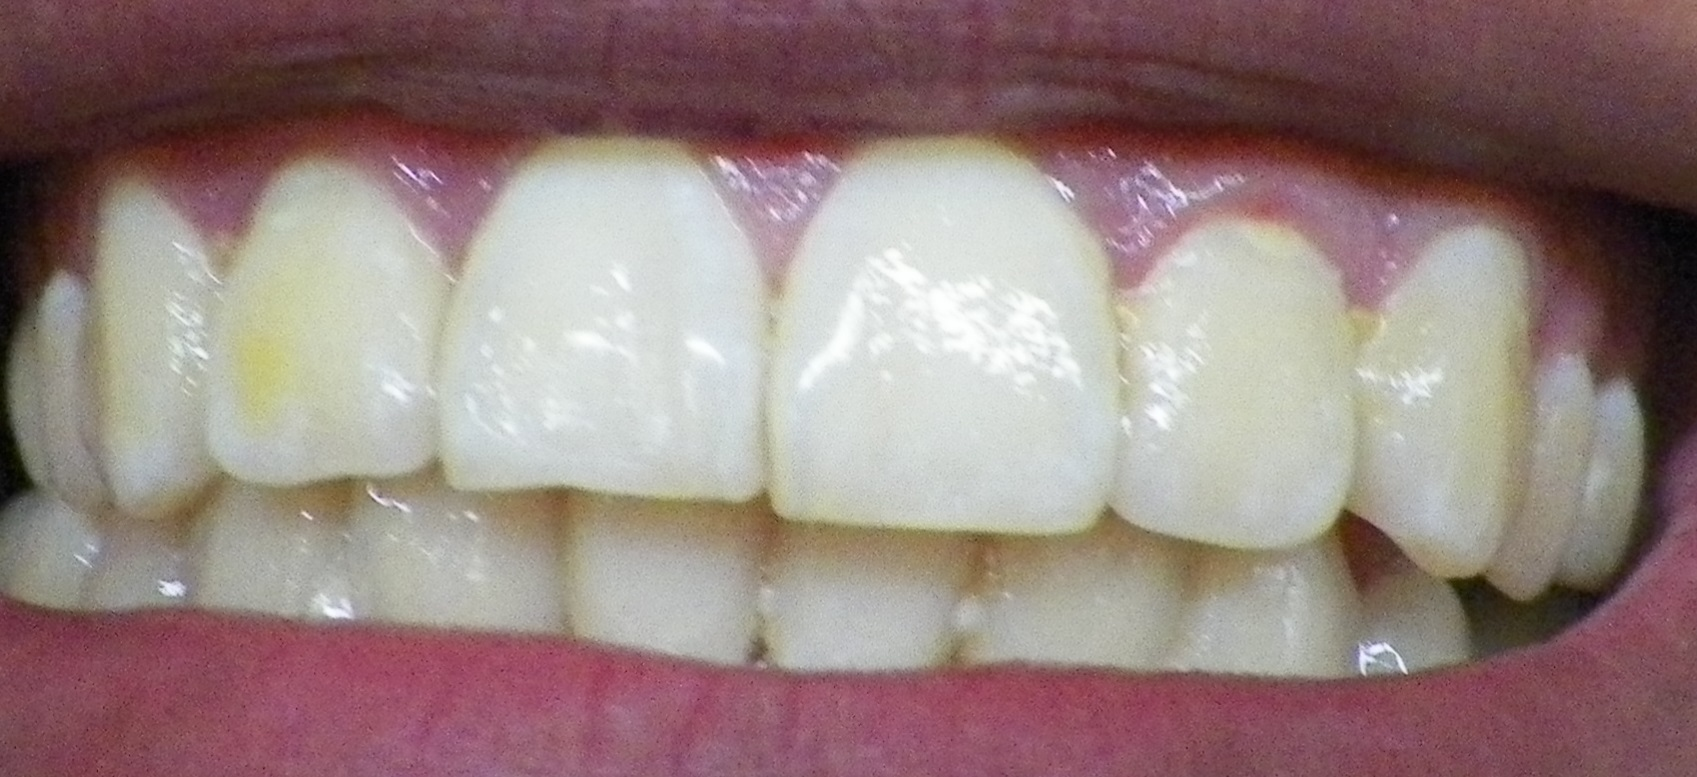boca: (2, 148, 1639, 690)
